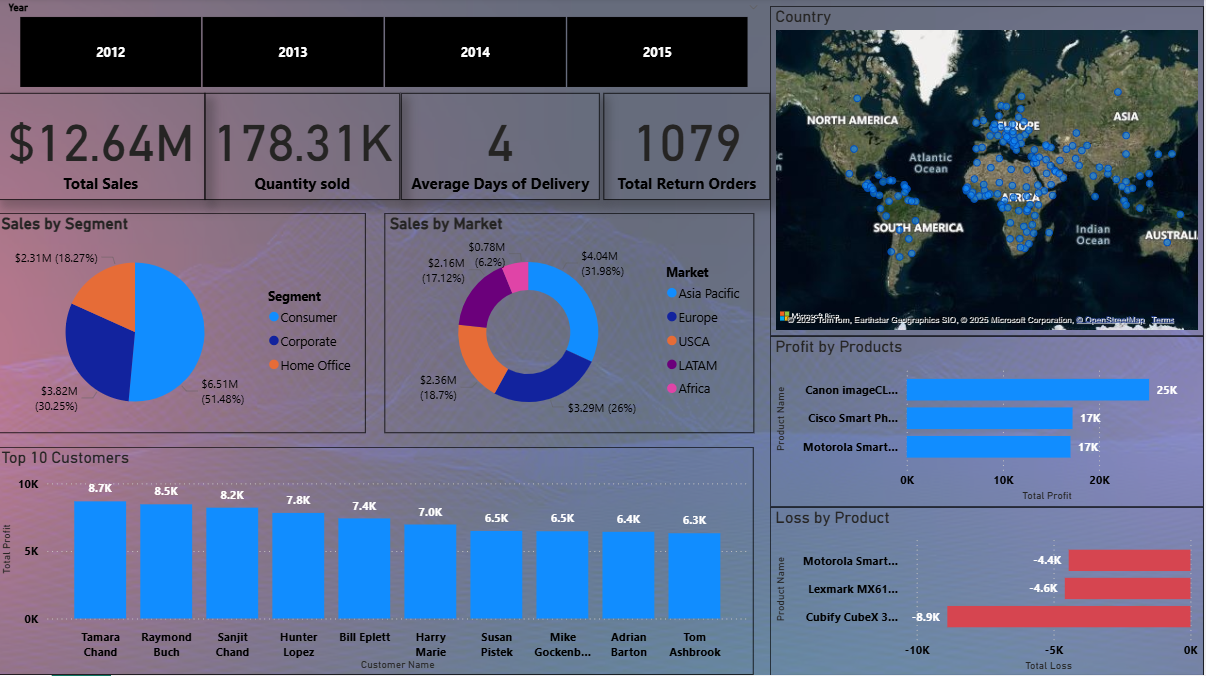

What the dashboard file says about the page in this screenshot:
{"tool":"powerbi","page":{"name":"Page 1","canvas":[1280,720],"ordinal":0},"visuals":[{"type":"card","fields":{"Values":["Orders.Sales"]},"box":[0,102,221.8,113.3],"z":0},{"type":"card","fields":{"Values":["Orders.Quantity"]},"box":[221.8,102,207.3,113.3],"z":1000},{"type":"card","fields":{"Values":["Orders.Days_of_Delivery"]},"box":[429.1,102,210.5,113.3],"z":2000},{"type":"slicer","fields":{"Values":["Orders.Year"]},"box":[0,0,820.9,102],"z":3000},{"type":"card","fields":{"Values":["Returns.Return_Orders"]},"box":[644.5,102,176.5,113.3],"z":4000},{"type":"map","fields":{"Category":["Orders.Country"]},"box":[820.9,9.7,459.9,349.8],"z":5000},{"type":"barChart","title":"Profit by Products","fields":{"Category":["Orders.Product Name"],"Y":["Orders.Profit"]},"box":[820.9,359.5,459.9,181.4],"z":6000},{"type":"barChart","title":"Loss by Product","fields":{"Category":["Orders.Product Name"],"Y":["Orders.Profit"]},"box":[820.9,540.8,459.9,179.7],"z":7000},{"type":"pieChart","title":"Sales by Segment","fields":{"Category":["Orders.Segment"],"Y":["Orders.Sales"]},"box":[0,228.3,391.9,233.2],"z":8000},{"type":"donutChart","title":"Sales by Market","fields":{"Y":["Orders.Sales"],"Category":["Orders.Market"]},"box":[411.3,228.3,391.9,233.2],"z":9000},{"type":"clusteredColumnChart","title":"Top 10 Customers","fields":{"Y":["Orders.Profit"],"Category":["Orders.Customer Name"]},"box":[0,477.7,803.1,242.9],"z":10000}]}

Visuals, with their boxes in screenshot pixels (x1, y1, x2, y2), scaled from the page's 1280x720 canvas onto the 1206x676 screenshot:
card - Orders.Sales: (0, 96, 209, 202)
card - Orders.Quantity: (209, 96, 404, 202)
card - Orders.Days_of_Delivery: (404, 96, 603, 202)
slicer - Orders.Year: (0, 0, 773, 96)
card - Returns.Return_Orders: (607, 96, 774, 202)
map - Orders.Country: (773, 9, 1205, 338)
"Profit by Products" barChart: (773, 338, 1205, 508)
"Loss by Product" barChart: (773, 508, 1205, 675)
"Sales by Segment" pieChart: (0, 214, 369, 433)
"Sales by Market" donutChart: (388, 214, 757, 433)
"Top 10 Customers" clusteredColumnChart: (0, 449, 757, 675)
